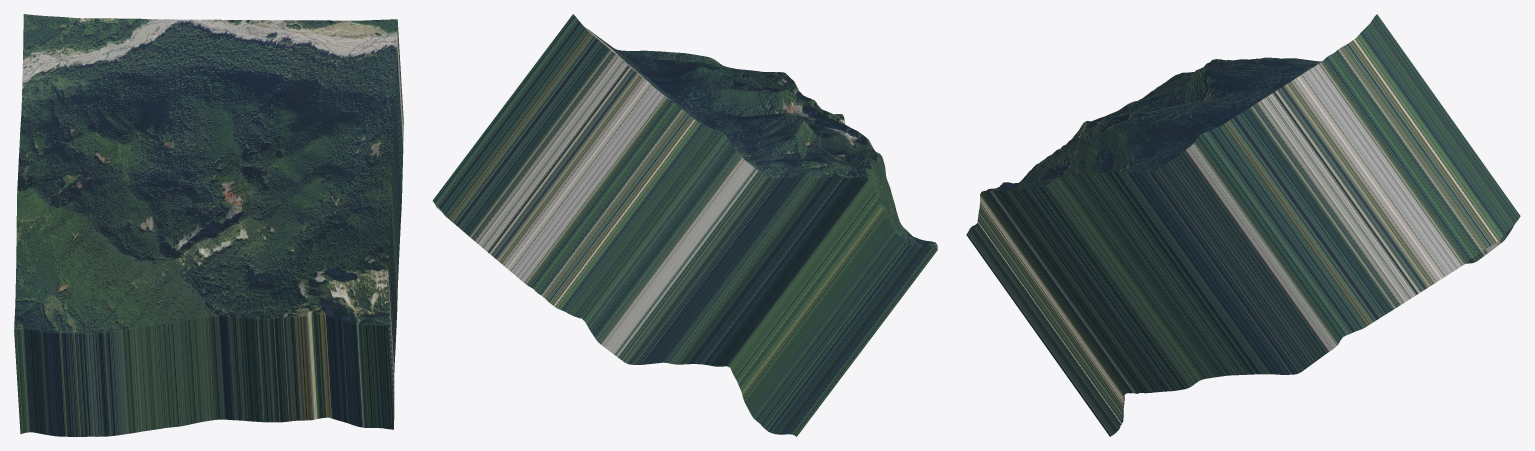
The picture shows the model from 3 angles, left to right: view 1: azimuth 30°, elevation 25°; view 2: azimuth 150°, elevation 25°; view 3: azimuth 270°, elevation 25°; orthographic projection. The views are drawn at different scales.
Bounding box in the file's own units: 6194 × 4592 × 6707.
1 material, 1 textured.
